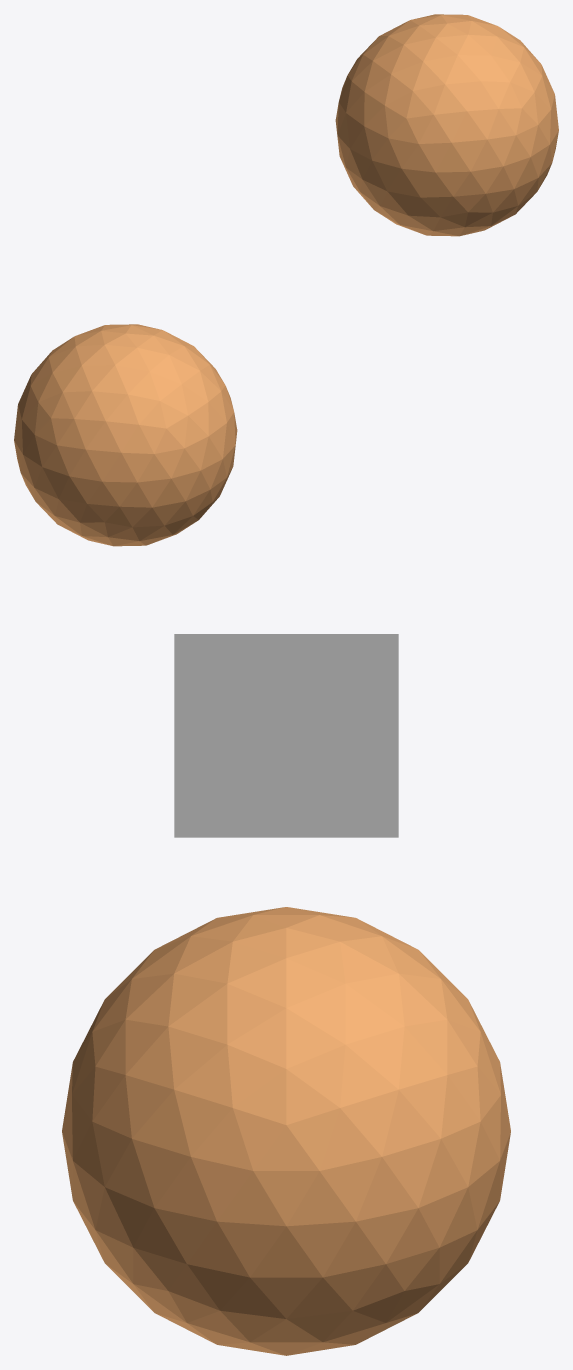
File: Smoke.glb
3 views of the same model, one above another, from view 1: azimuth 30°, elevation 25°; view 2: azimuth 150°, elevation 25°; view 3: azimuth 270°, elevation 25° (orthographic). The views are drawn at different scales.
Visible parts, largest first — view 1: VortexSphere.001; view 2: VortexSphere.001; view 3: VortexSphere.001, SmokeFlow.001.
Part boxes in pixels (x1,y1,x2,y2): VortexSphere.001: (335,14,558,236); VortexSphere.001: (14,324,237,546); VortexSphere.001: (62,907,510,1355); SmokeFlow.001: (174,634,398,837).
Size of the model in its own units: 2.48 by 0.96 by 0.96.
